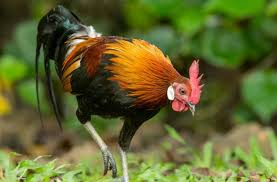Gà/Chicken: (25, 1, 226, 181)
